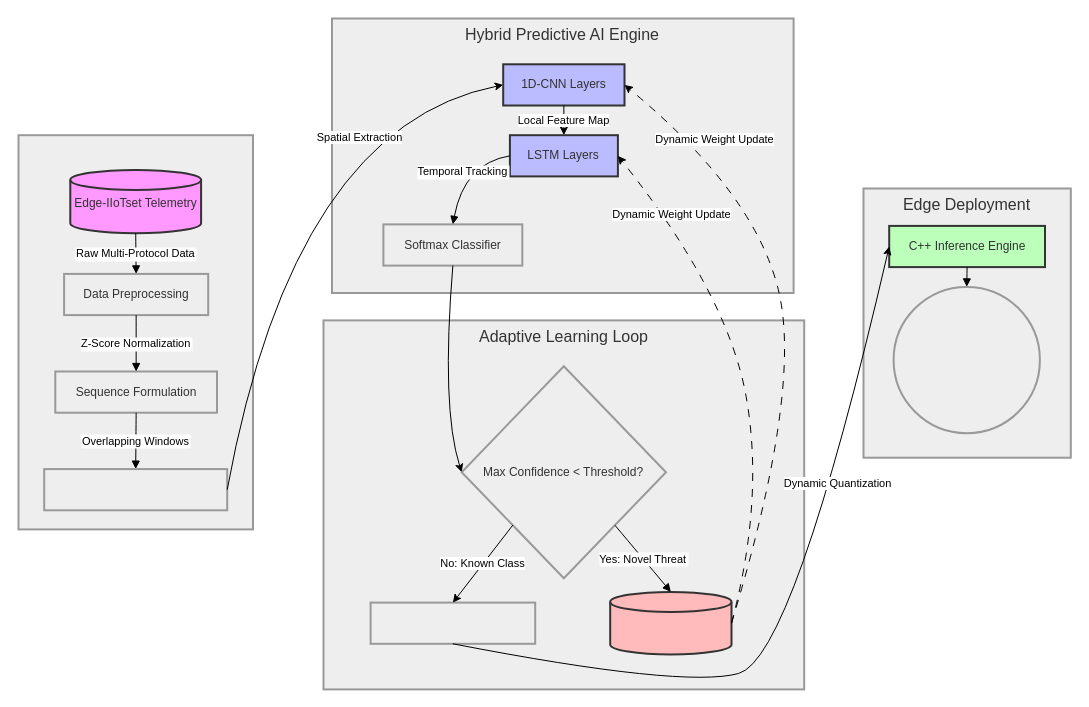
Some shapes in this 1089 by 707 pixel diagram are drawn without their labels. The box of each missing label's shape, as (x1, y1, x2, y2) in pixels:
Data Acquisition: (17, 134, 254, 530)
Novel Threat Archive: (609, 590, 732, 655)
Predictive Security Action: (892, 285, 1040, 434)
Standard Classification: (369, 601, 536, 644)
Temporal Sequence Matrix: (43, 468, 228, 511)
